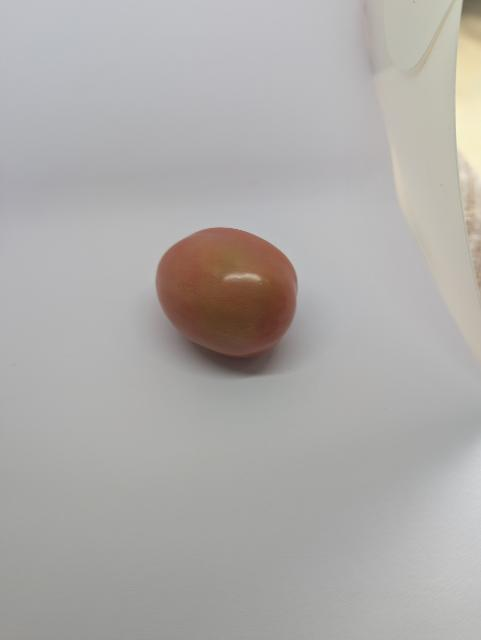turning: (147, 223, 309, 362)
